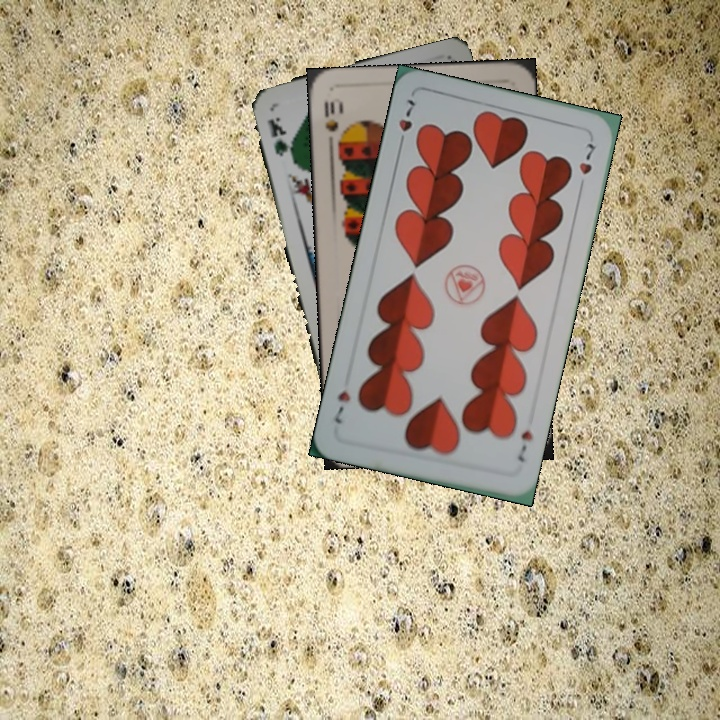GK: (263, 112, 296, 164)
H7: (394, 95, 418, 151), (513, 426, 535, 465)
S10: (320, 94, 343, 152)
